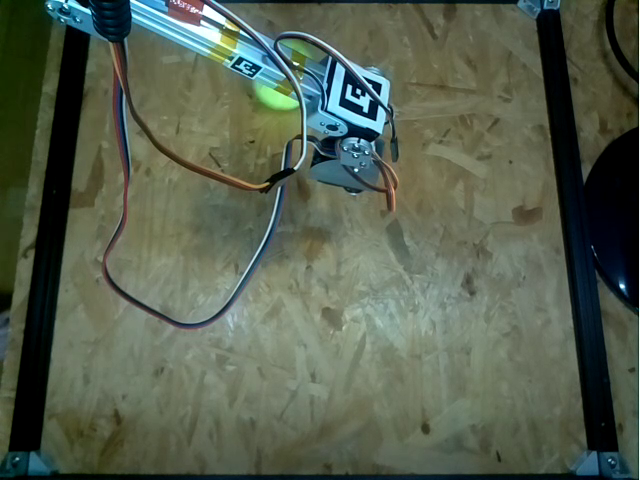tennis_ball: (254, 80, 300, 109)
